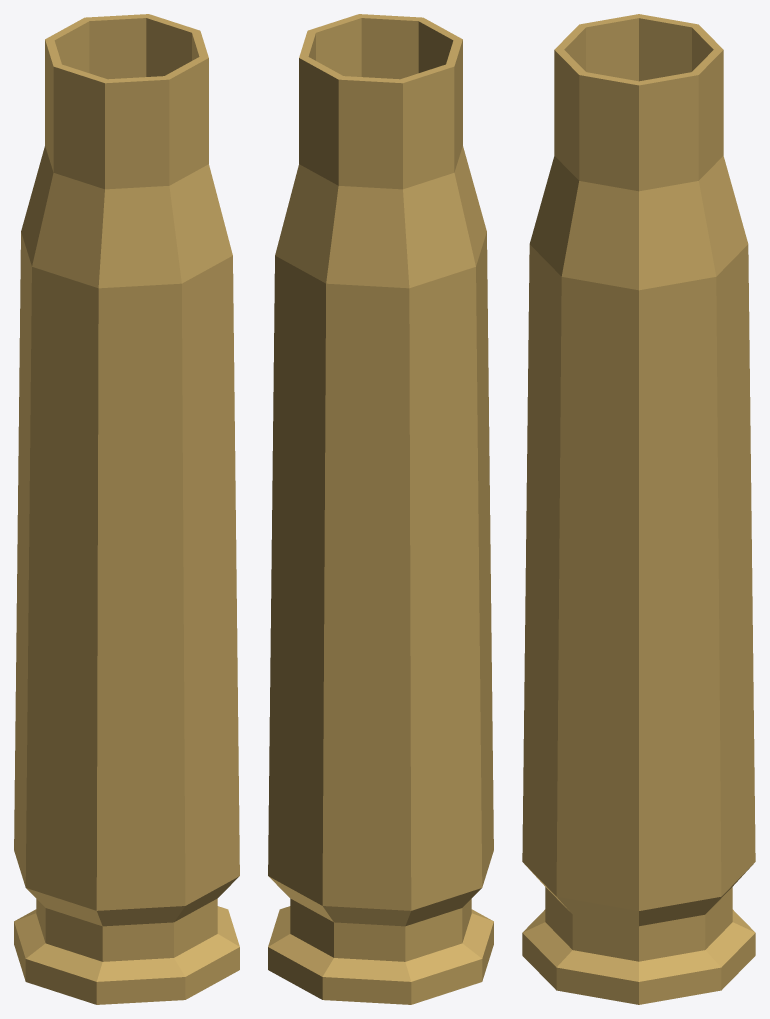
The model's file is case_762x51.glb.
3 renders of one model, left to right at view 1: azimuth 30°, elevation 25°; view 2: azimuth 150°, elevation 25°; view 3: azimuth 270°, elevation 25°, orthographic.
Visible parts, largest first — view 1: case_762x51; view 2: case_762x51; view 3: case_762x51.
Part boxes in pixels (bbox=[...]): case_762x51: bbox=[14, 14, 239, 1004]; case_762x51: bbox=[268, 14, 493, 1004]; case_762x51: bbox=[522, 14, 755, 1004].
Bounding box in the file's own units: 0.0119 × 0.0512 × 0.0119.
